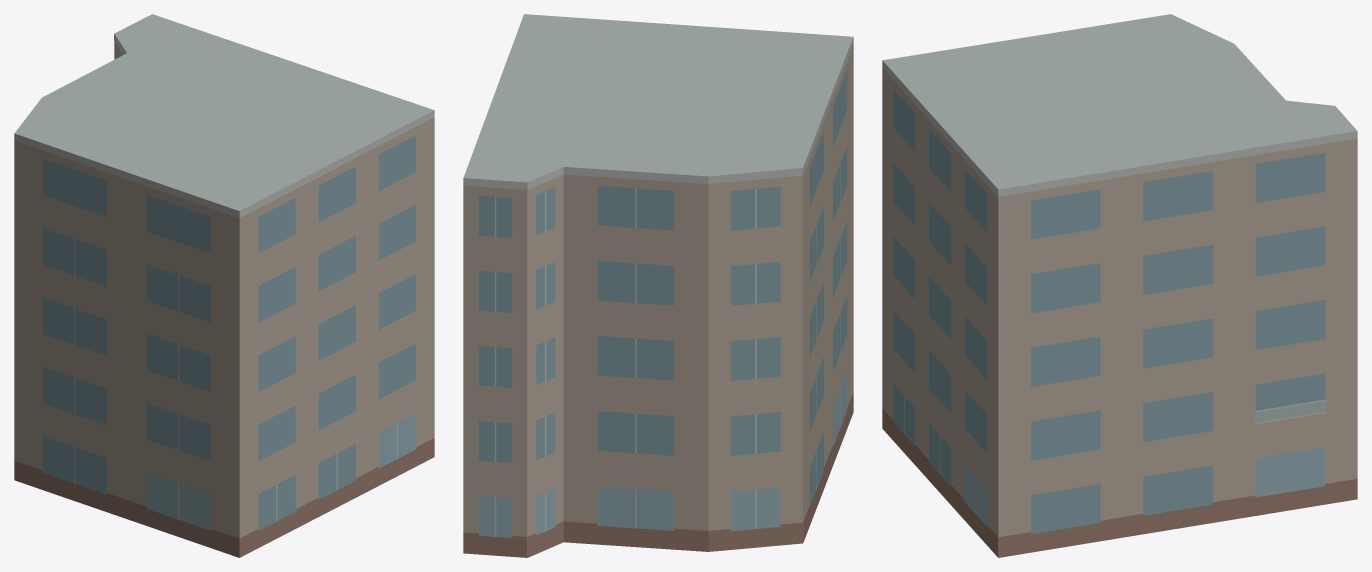
The model's file is survey-upis-32586954.glb.
The picture shows the model from 3 angles, left to right: view 1: azimuth 30°, elevation 25°; view 2: azimuth 150°, elevation 25°; view 3: azimuth 270°, elevation 25°; orthographic projection. The views are drawn at different scales.
Visible parts, largest first — view 1: survey-upis-32586954.tmp; view 2: survey-upis-32586954.tmp; view 3: survey-upis-32586954.tmp.
Boxes of the visible parts, x1,y1,x2,y2 form: survey-upis-32586954.tmp: (14,14,434,557); survey-upis-32586954.tmp: (463,14,853,557); survey-upis-32586954.tmp: (882,14,1357,557).
Size of the model in its own units: 12.34 by 12.05 by 14.1.
